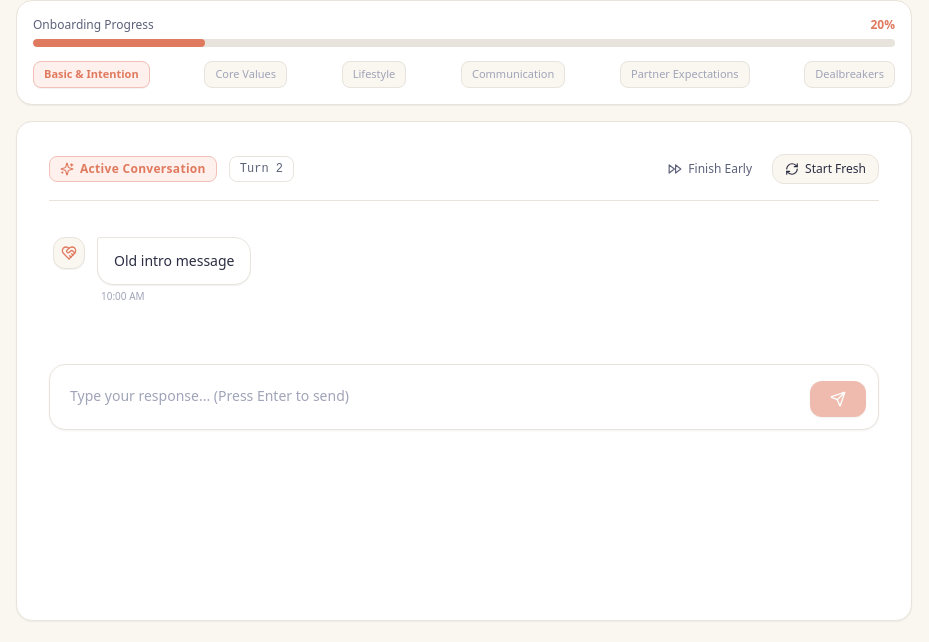
Test: InterviewPage Component › allows entering and submitting messages normally after Start Fresh completes
Check: the text "Old intro message" is shown, box [114,250,234,272]
Click the button "Start Fresh".
click(826, 168)  # box [772,154,879,184]
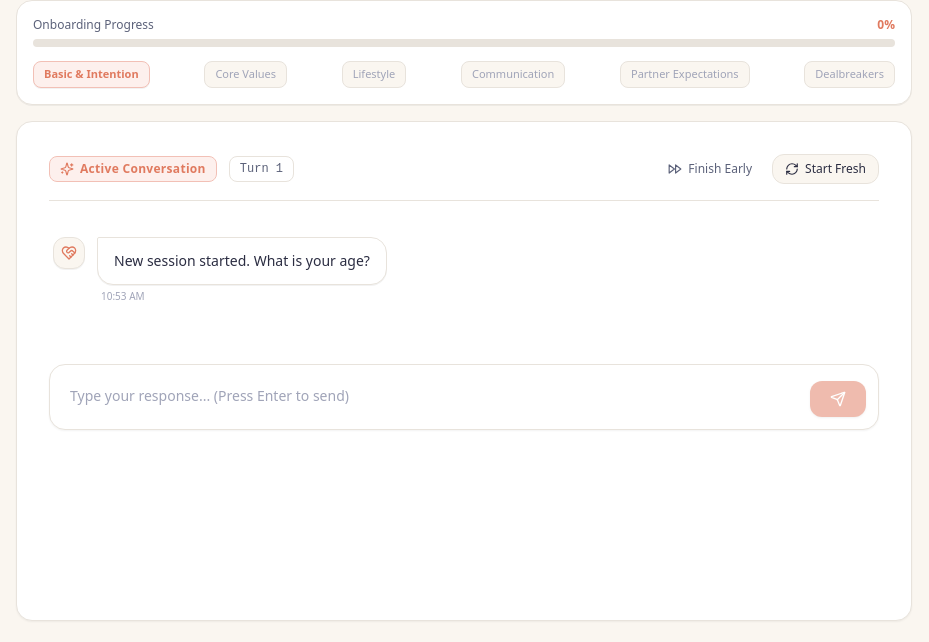
Check: the text "New session started. What is your age?" is shown, box [114,250,370,272]
Type "I am 25 years old" into the text box with placeholder "Type your response... (Press Enter to send)".
click(432, 397); type("I am 25 years old")  # box [62,377,802,417]
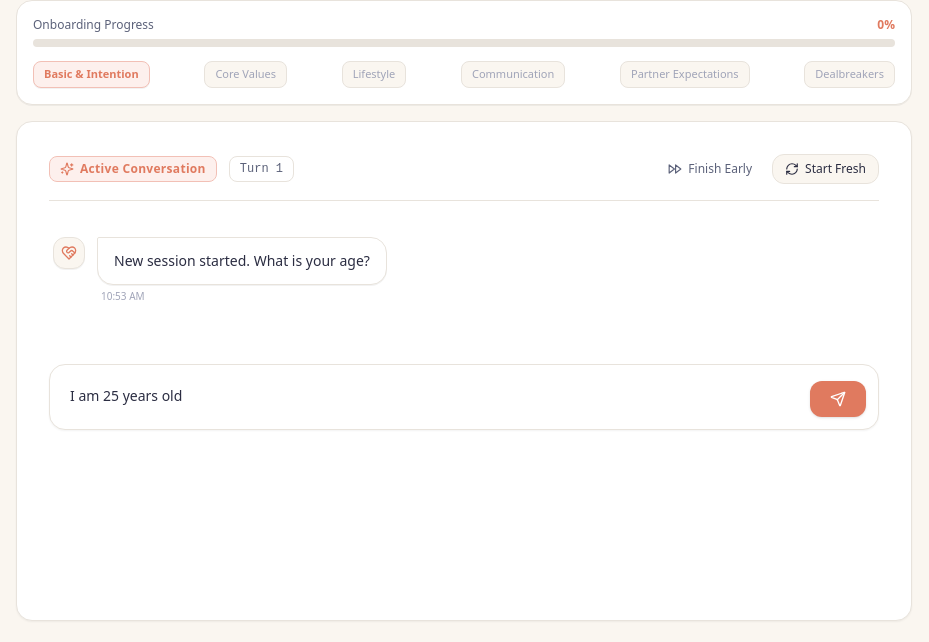
Click the 3rd button.
click(838, 399)  # box [810,381,866,417]
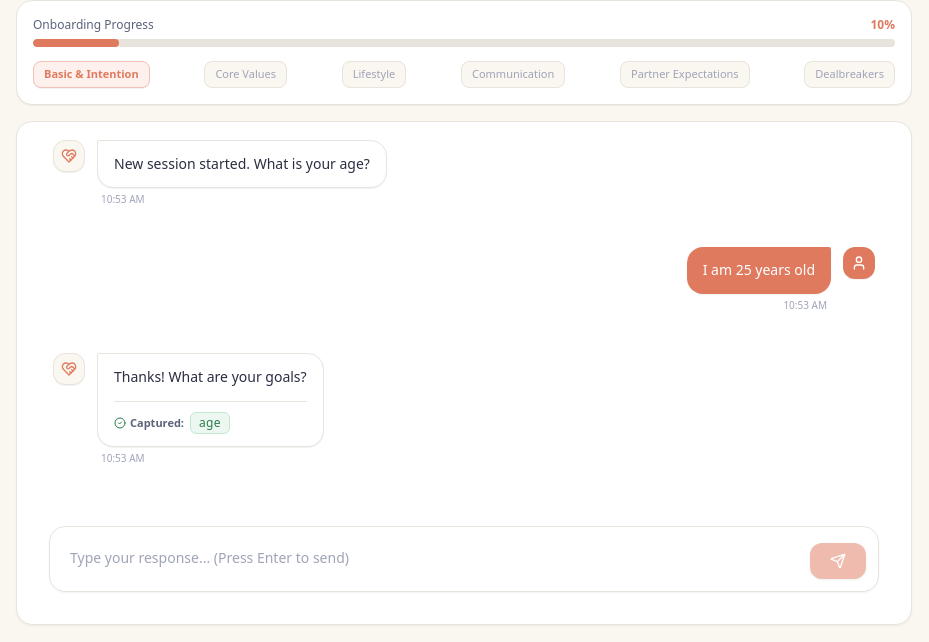
Check: the text "Thanks! What are your goals?" is shown, box [114,366,307,389]
